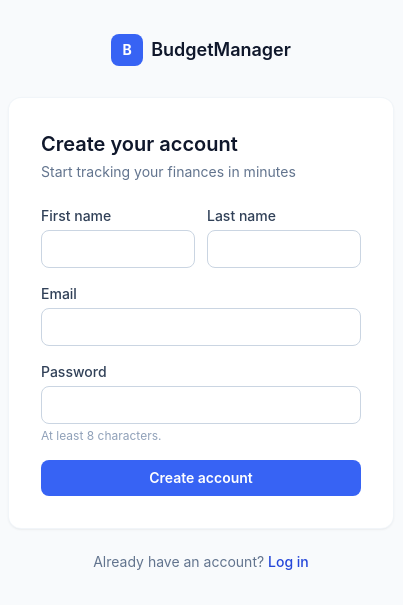
RegisterPage › shows an error message when registration fails
Type "Jane" into the field labelled "First name" at {"x": 118, "y": 249}, box [41,230,195,268]
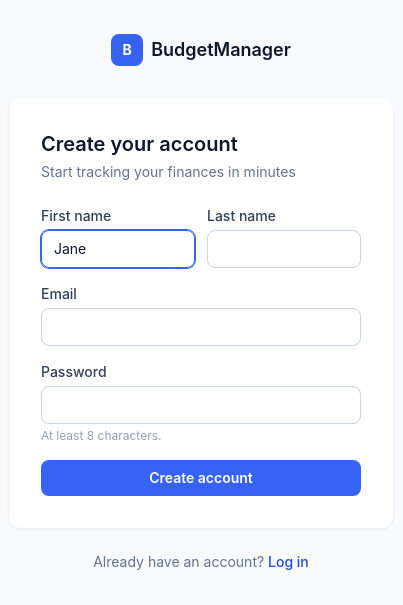
Type "Doe" into the field labelled "Last name" at {"x": 284, "y": 249}, box [207,230,361,268]
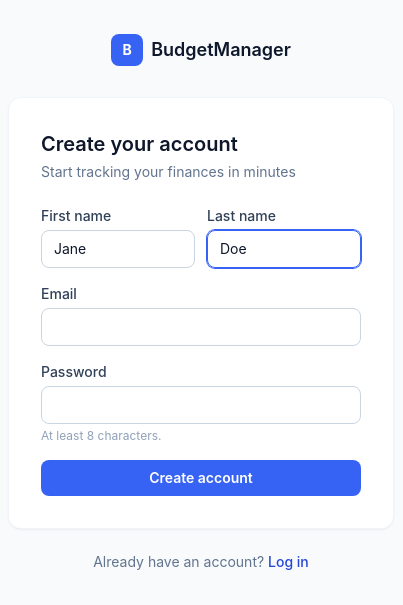
Type "jane@example.com" into the field labelled "Email" at {"x": 201, "y": 327}, box [41,308,361,346]
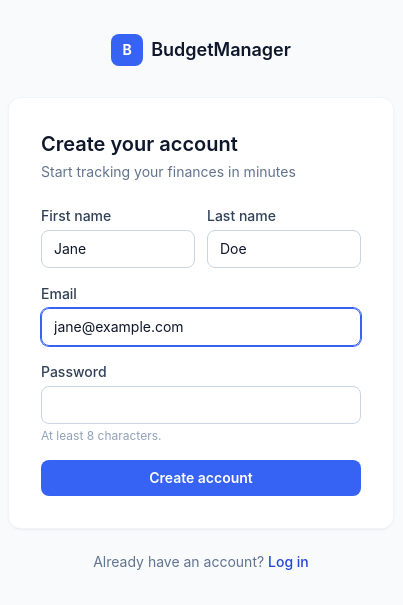
Type "password123" into the password field labelled "Password" at {"x": 201, "y": 405}, box [41,386,361,424]
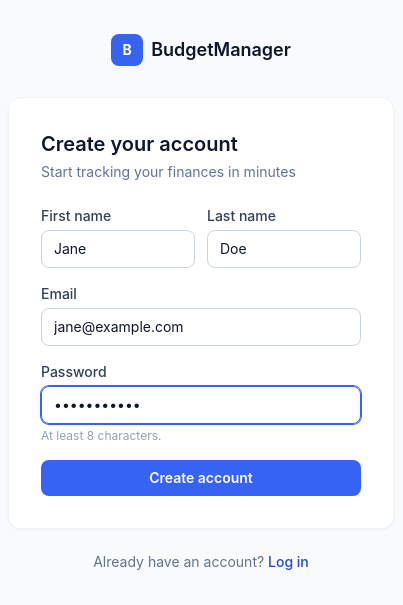
Click the button "Create account" at {"x": 201, "y": 478}, box [41,460,361,496]
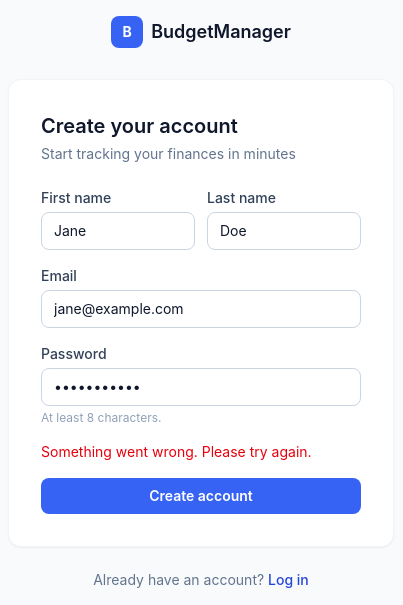
Expected: the text "Something went wrong. Please try again." is shown, [41,443,312,460]
